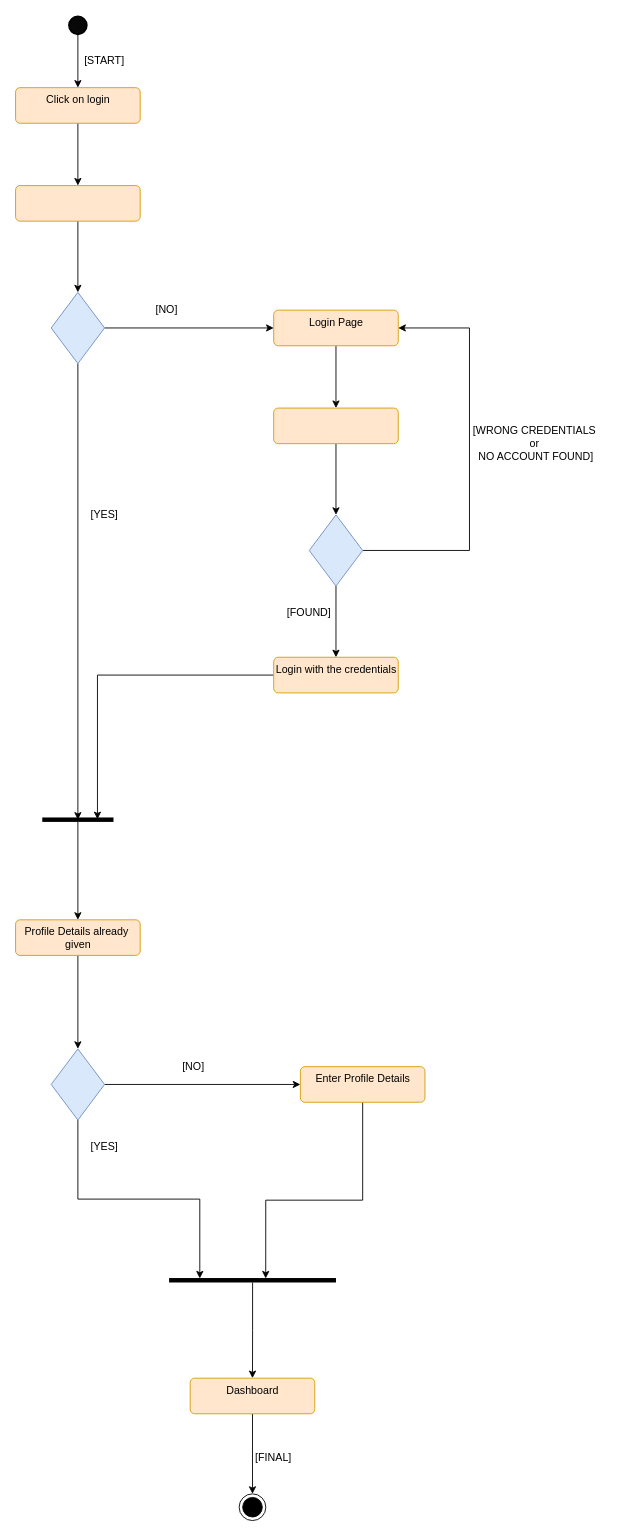
This 619x1536 diagram has some shape labels left out. The box of each missing label's shape, as (x1, y1, x2, y2) in pixels:
Already logged in: (15, 185, 140, 221)
Type credentials and authenticate: (273, 407, 398, 444)
